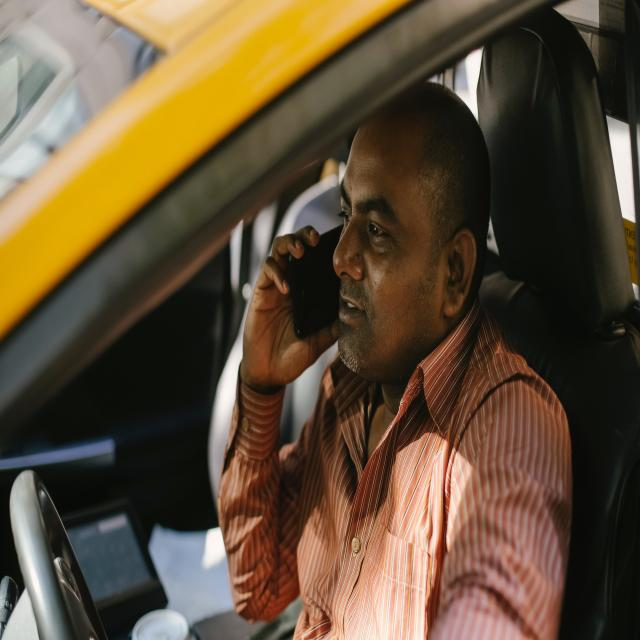using_phone: (240, 174, 386, 408)
